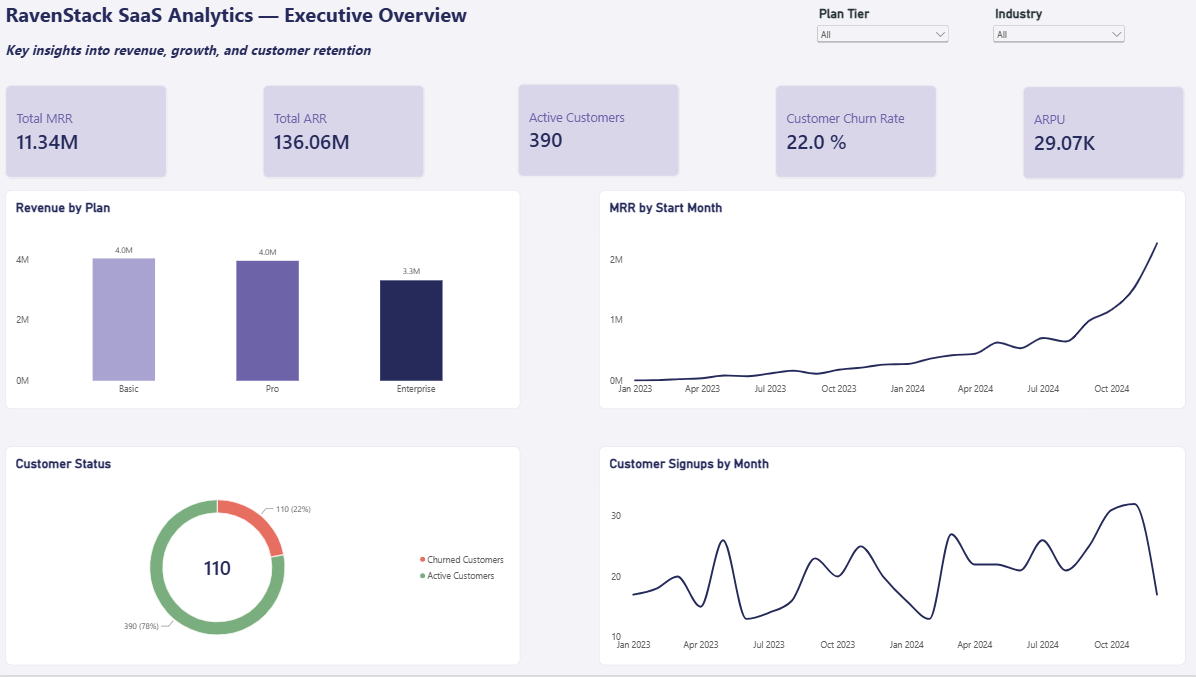

The page's visual inventory and layout, read from the dashboard file:
{"tool":"powerbi","page":{"name":"01 Executive overview","canvas":[1920,1080],"ordinal":0},"visuals":[{"type":"textbox","box":[10.8,0,769.4,63.1],"z":0},{"type":"textbox","box":[10.8,63.1,607.2,46.8],"z":1},{"type":"cardVisual","fields":{"Data":["accounts.Total MRR"]},"box":[10,136,259.5,149.6],"z":2},{"type":"cardVisual","fields":{"Data":["accounts.Total ARR"]},"box":[422,136,259.5,149.6],"z":3},{"type":"cardVisual","fields":{"Data":["accounts.Active Customers"]},"box":[830,134,259.5,149.6],"z":4},{"type":"cardVisual","fields":{"Data":["accounts.Customer Churn Rate"]},"box":[1242,136,259.5,149.6],"z":5},{"type":"cardVisual","fields":{"Data":["accounts.ARPU"]},"box":[1638,138,259.5,149.6],"z":6},{"type":"clusteredColumnChart","title":"Revenue by Plan","fields":{"Category":["accounts.plan_tier"],"Y":["accounts.Total MRR"]},"box":[10,304,824,350],"z":7},{"type":"lineChart","title":"MRR by Start Month","fields":{"Category":["subscriptions.Start Month"],"Y":["accounts.Total MRR"]},"box":[960,304,938,350],"z":8},{"type":"lineChart","title":"Customer Signups by Month","fields":{"Category":["accounts.Signup Month"],"Y":["accounts.Total Customers"]},"box":[960,714,938,350],"z":9},{"type":"donutChart","title":"Customer Status","fields":{"Y":["accounts.Churned Customers","accounts.Active Customers"]},"box":[10,714,824,350],"z":10},{"type":"slicer","fields":{"Values":["accounts.plan_tier"]},"box":[1304,10,220,100],"z":11},{"type":"slicer","fields":{"Values":["accounts.industry"]},"box":[1586,10,220,100],"z":12}]}

Visuals, with their boxes in screenshot pixels (x1, y1, x2, y2), scaled from the page's 1920x1080 canvas onto the 1196x677 screenshot:
textbox: 7/0/486/40
textbox: 7/40/385/69
cardVisual - accounts.Total MRR: 6/85/168/179
cardVisual - accounts.Total ARR: 263/85/425/179
cardVisual - accounts.Active Customers: 517/84/679/178
cardVisual - accounts.Customer Churn Rate: 774/85/935/179
cardVisual - accounts.ARPU: 1020/87/1182/180
"Revenue by Plan" clusteredColumnChart: 6/191/520/410
"MRR by Start Month" lineChart: 598/191/1182/410
"Customer Signups by Month" lineChart: 598/448/1182/667
"Customer Status" donutChart: 6/448/520/667
slicer - accounts.plan_tier: 812/6/949/69
slicer - accounts.industry: 988/6/1125/69
